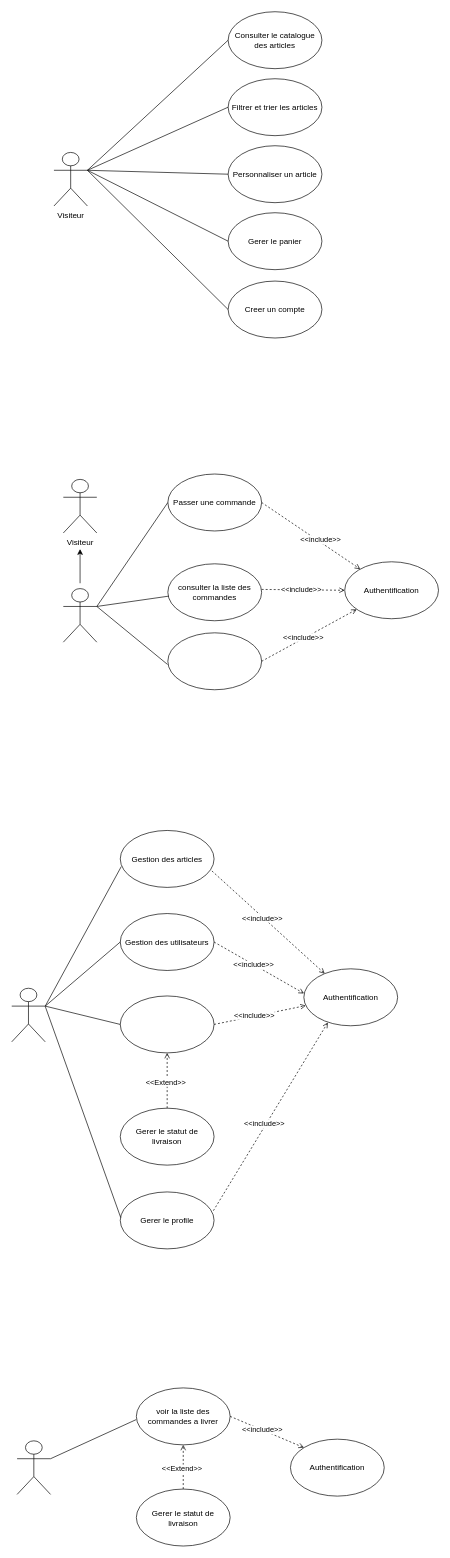
Some shapes in this 450 by 1558 pixel diagram are drawn without their labels. Here are the shapes that lost their labels. From the top down, the centre of each, then its label:
At point 80,615: "Client".
At point 214,661: "Gerer le profil".
At point 28,1015: "Admin".
At point 167,1024: "Gestion des commandes".
At point 33,1467: "Livreur".
